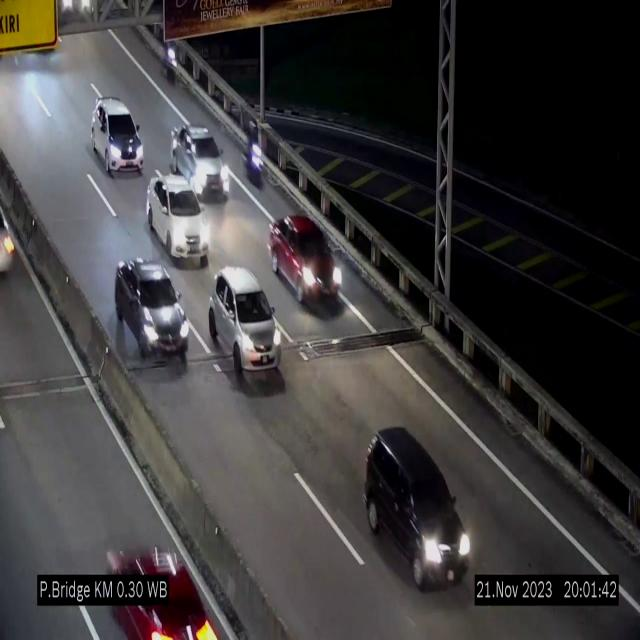Car: (365, 428, 471, 589), (98, 516, 214, 640), (113, 255, 195, 368), (208, 268, 282, 384), (266, 211, 344, 320), (146, 174, 210, 262), (170, 124, 229, 203), (92, 98, 144, 174)
Motorcycle: (242, 118, 268, 192), (162, 34, 180, 90)
